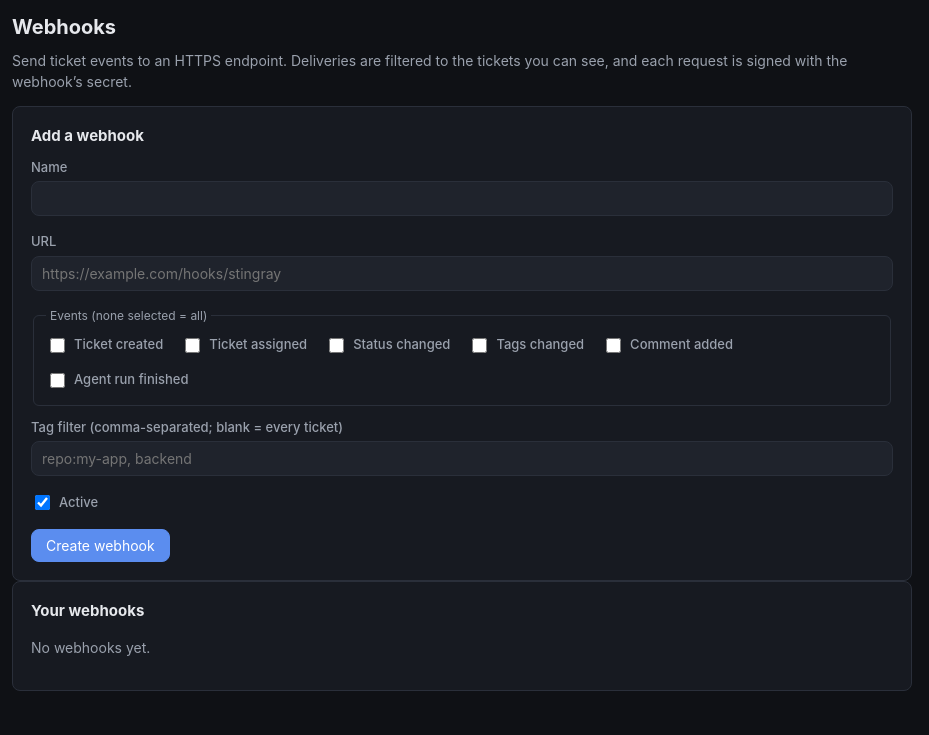
Test case: Webhooks › surfaces the SSRF rejection message verbatim
Type "ci" into the field labelled "Name" at (462, 198), box x1=31 y1=181 x2=893 y2=216
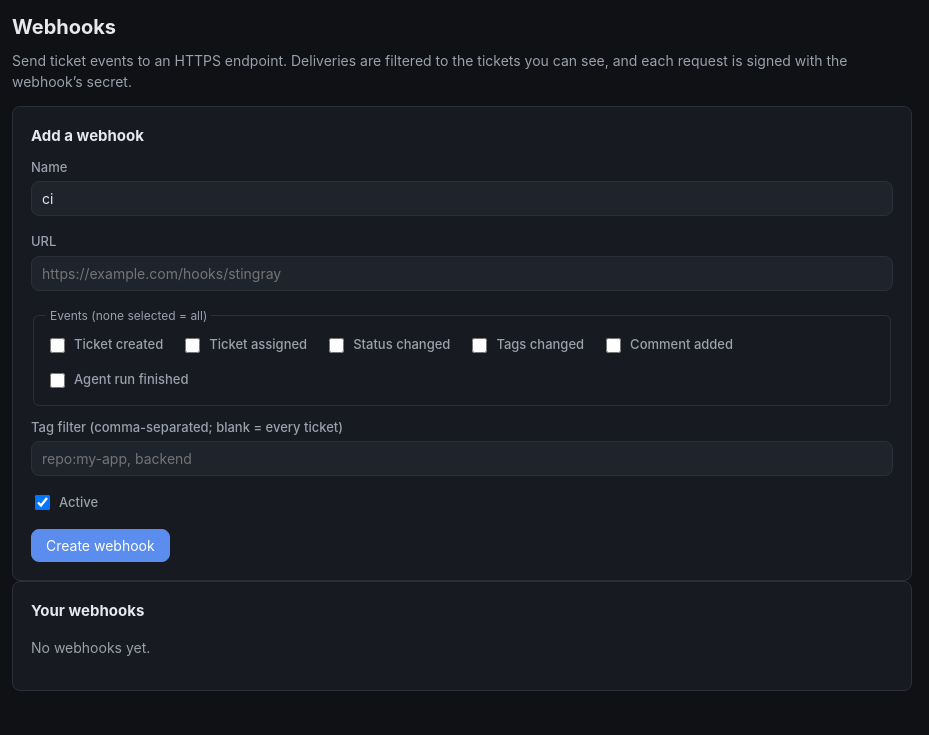
Type "https://example.com/hook" into the field labelled "URL" at (462, 273), box x1=31 y1=256 x2=893 y2=290
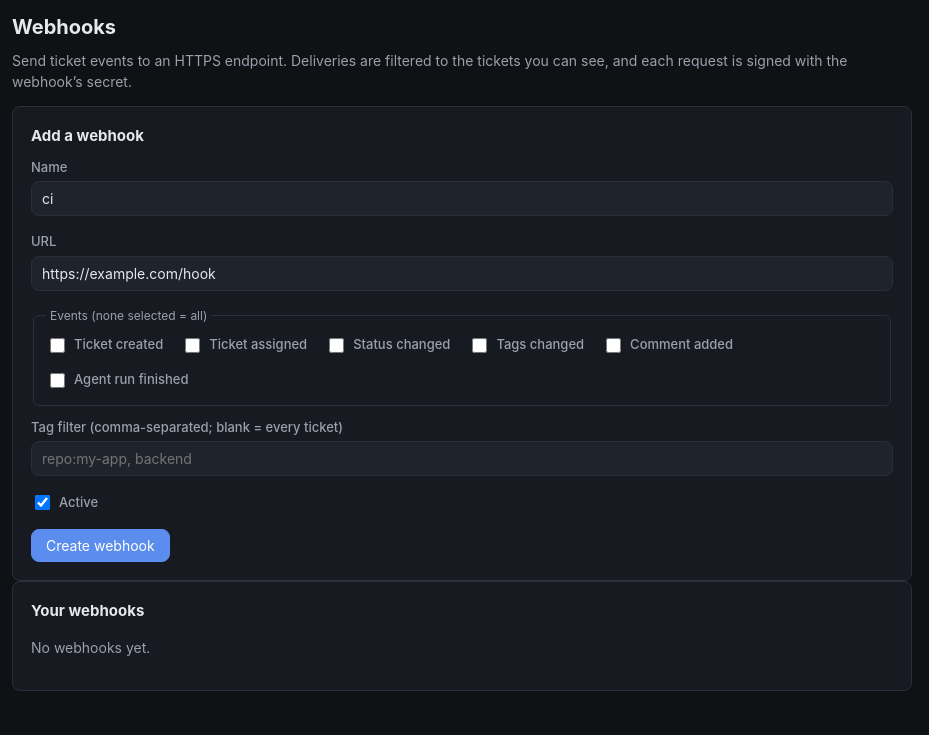
Click the button "Create webhook" at (100, 546), box x1=31 y1=529 x2=170 y2=562
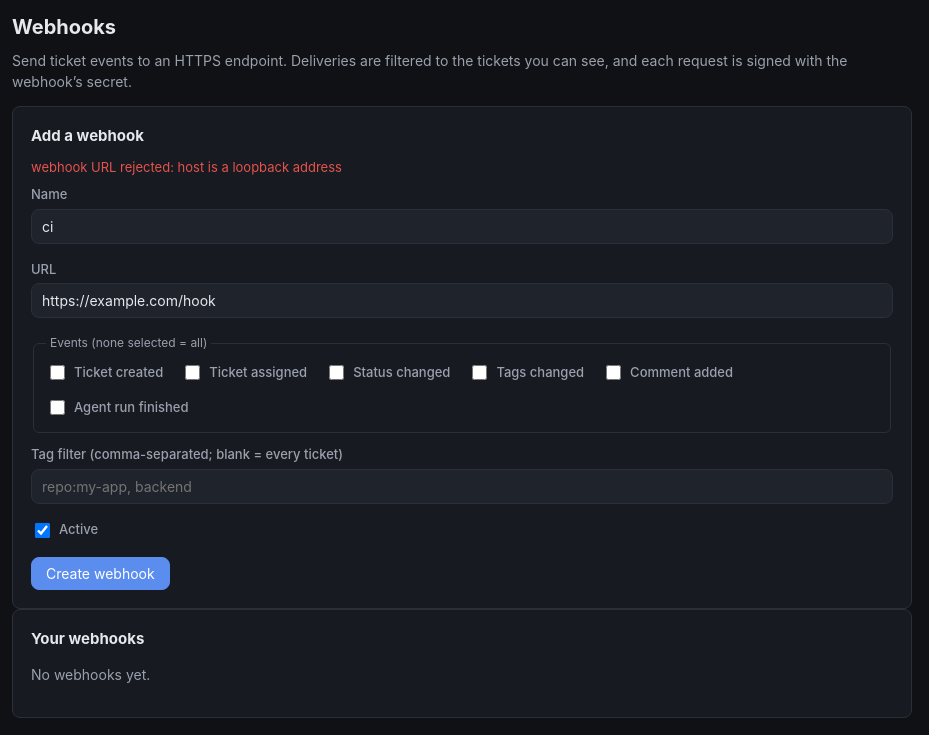
Check: the text "webhook URL rejected: host is a loopback address" is shown, box x1=31 y1=158 x2=342 y2=174
